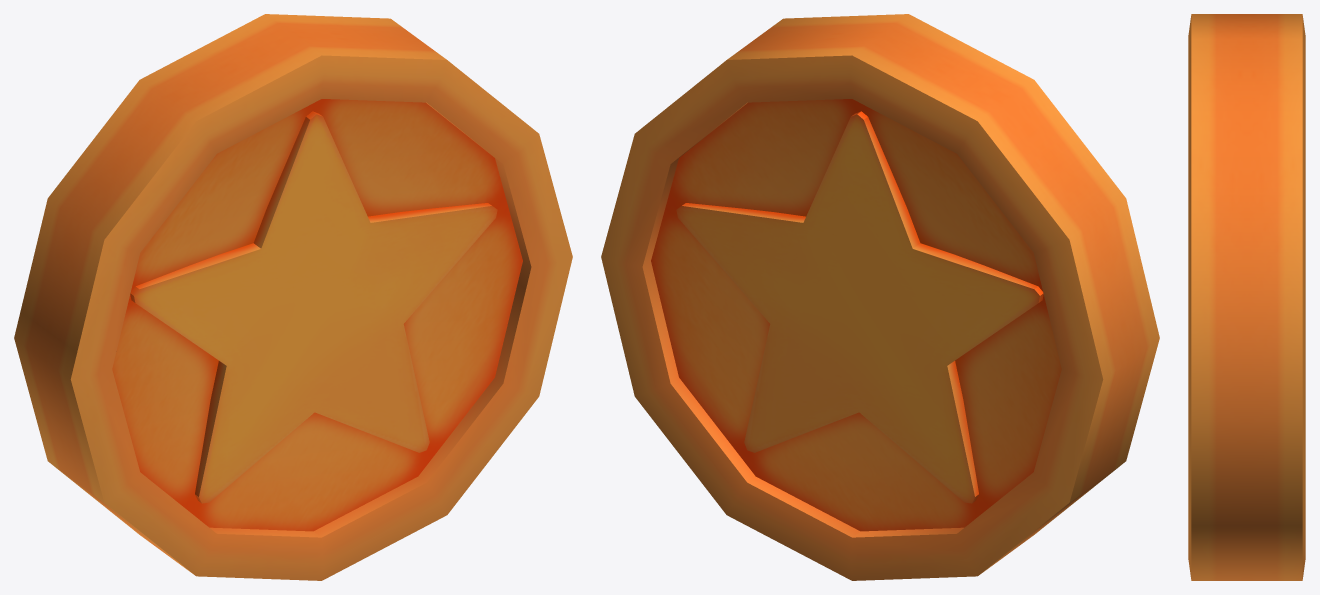
Rendered from coin.fbx.
3 renders of one model, left to right at view 1: azimuth 30°, elevation 25°; view 2: azimuth 150°, elevation 25°; view 3: azimuth 270°, elevation 25°, orthographic.
Parts seen in each view (by area): view 1: Cylinder001; view 2: Cylinder001; view 3: Cylinder001.
Part boxes in pixels (x1,y1,x2,y2): Cylinder001: [14, 14, 572, 580]; Cylinder001: [601, 14, 1159, 580]; Cylinder001: [1188, 14, 1305, 580].
Size of the model in its own units: 40 by 40 by 8.27.
